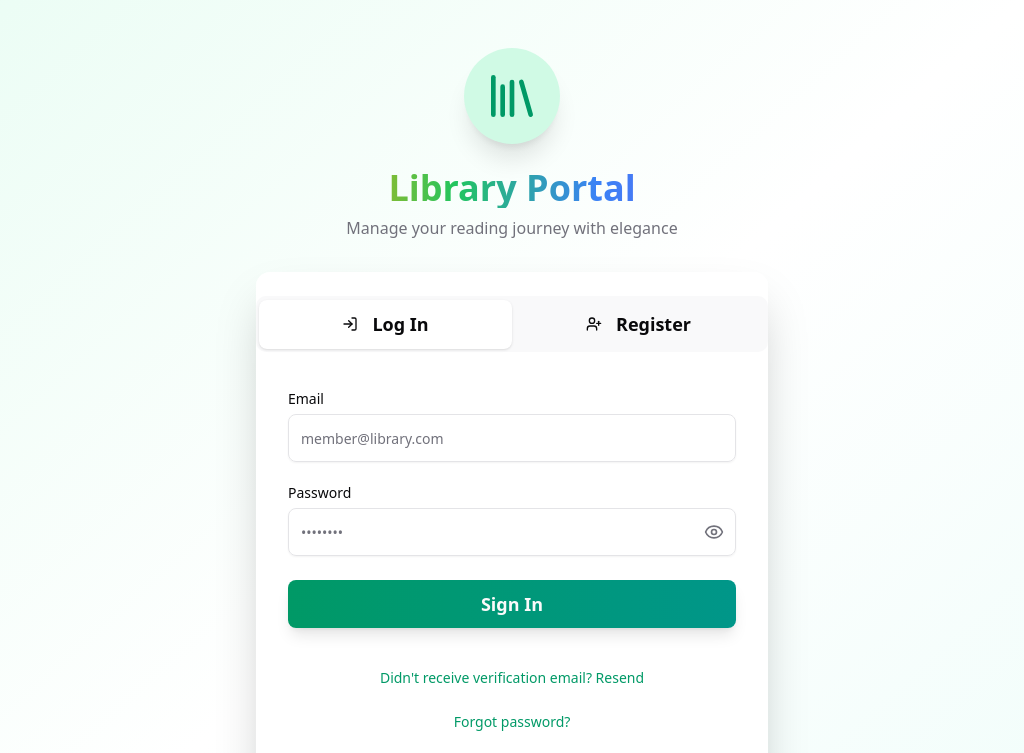
User Registration › should toggle password visibility for both fields
Click the tab "Register".
click(639, 325)  # box [512,300,765,349]
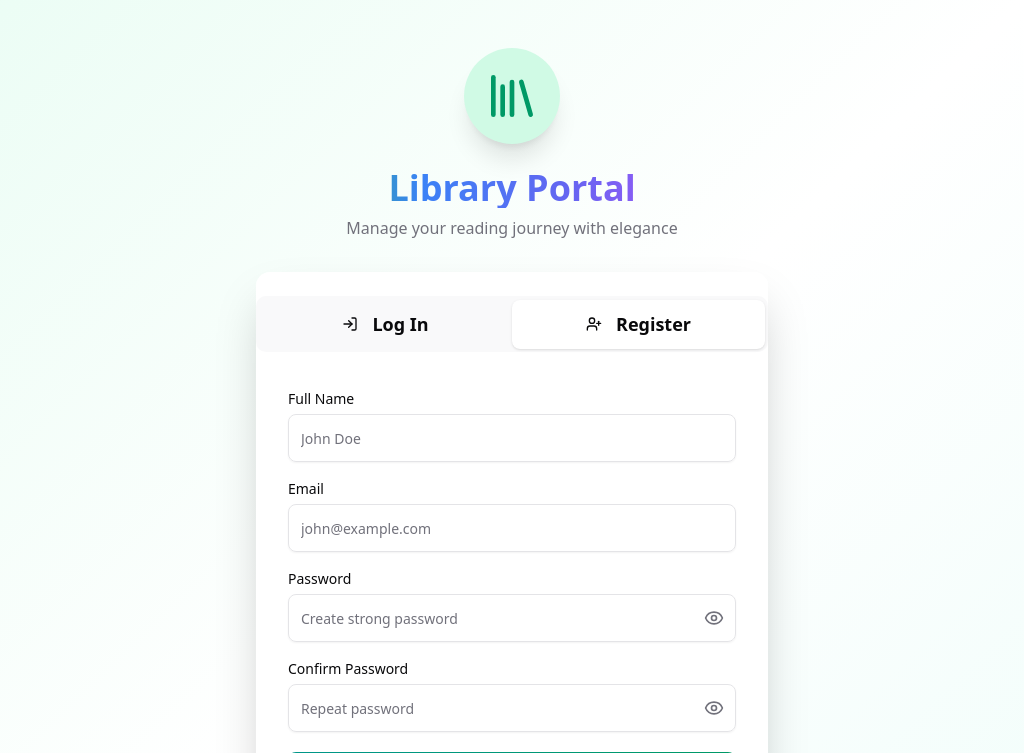
Type "StrongPass123" into the password field with placeholder "Create strong password".
click(512, 618); type("StrongPass123")  # box [288,594,736,642]
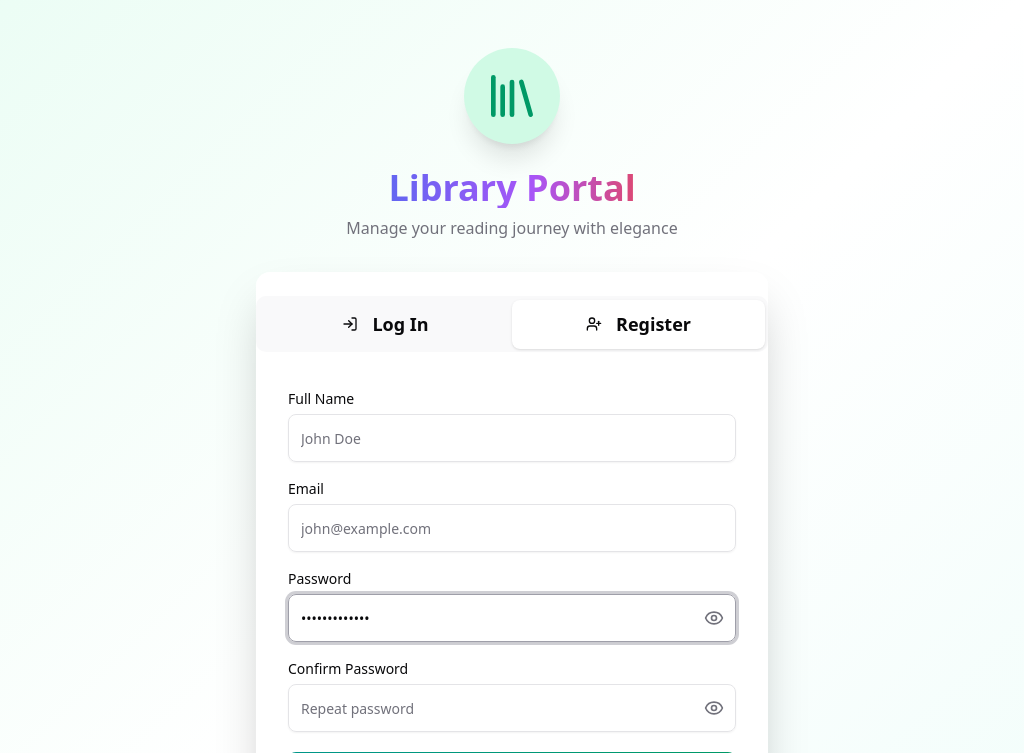
Type "StrongPass123" into the password field with placeholder "Repeat password".
click(512, 708); type("StrongPass123")  # box [288,684,736,732]
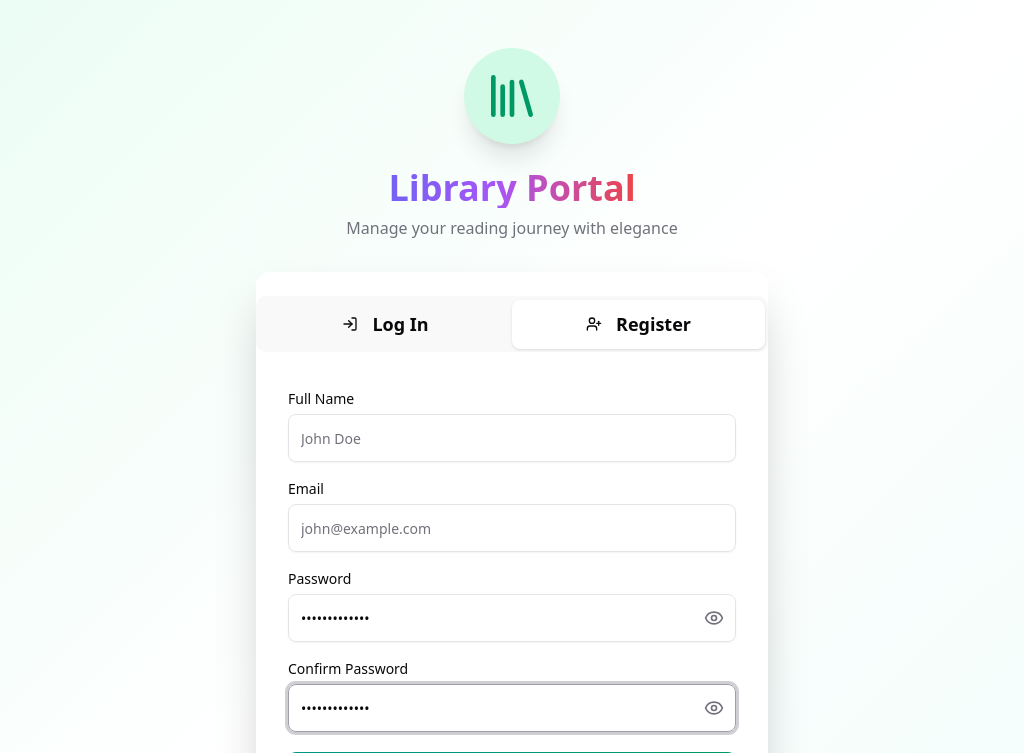
Click the 1st button.
click(714, 618)  # box [704,608,724,628]
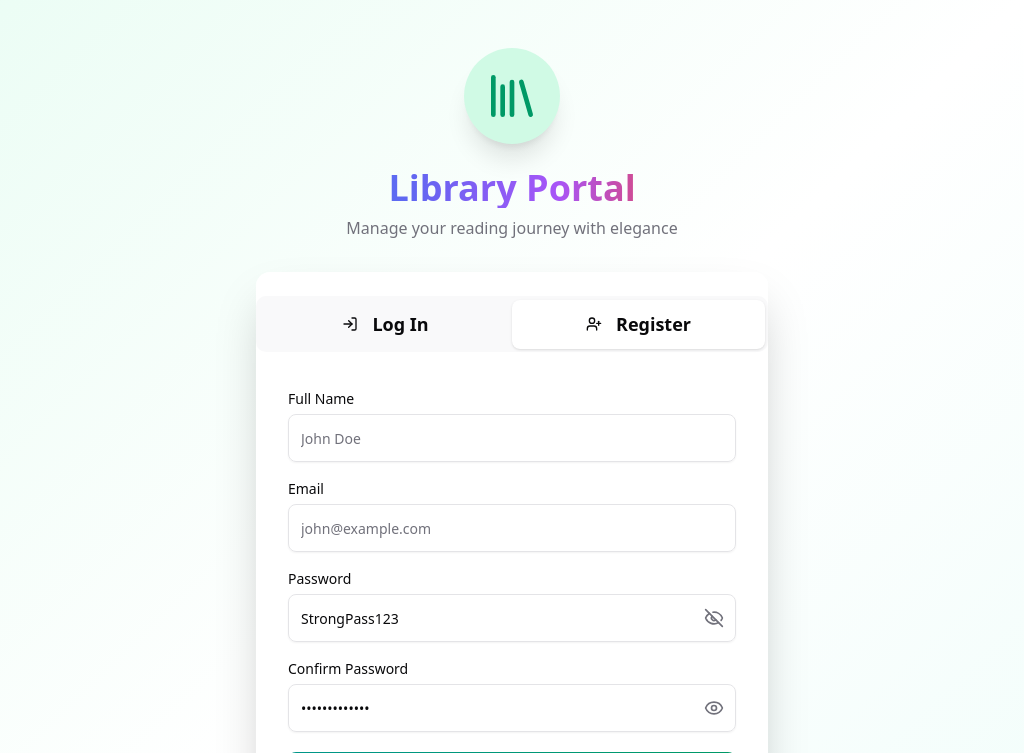
Expected: the field with placeholder "Create strong password" shows its text, [288,594,736,642]
Click the 2nd button.
click(714, 708)  # box [704,698,724,718]
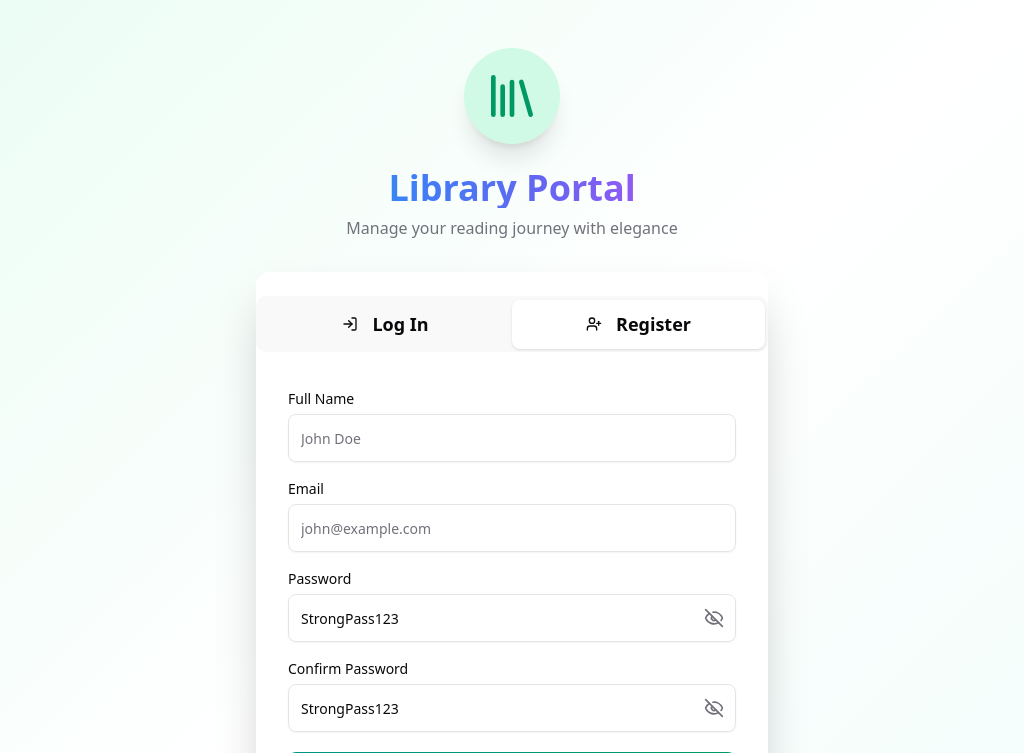
Expected: the field with placeholder "Repeat password" below "Confirm Password" shows its text, [288,684,736,732]
